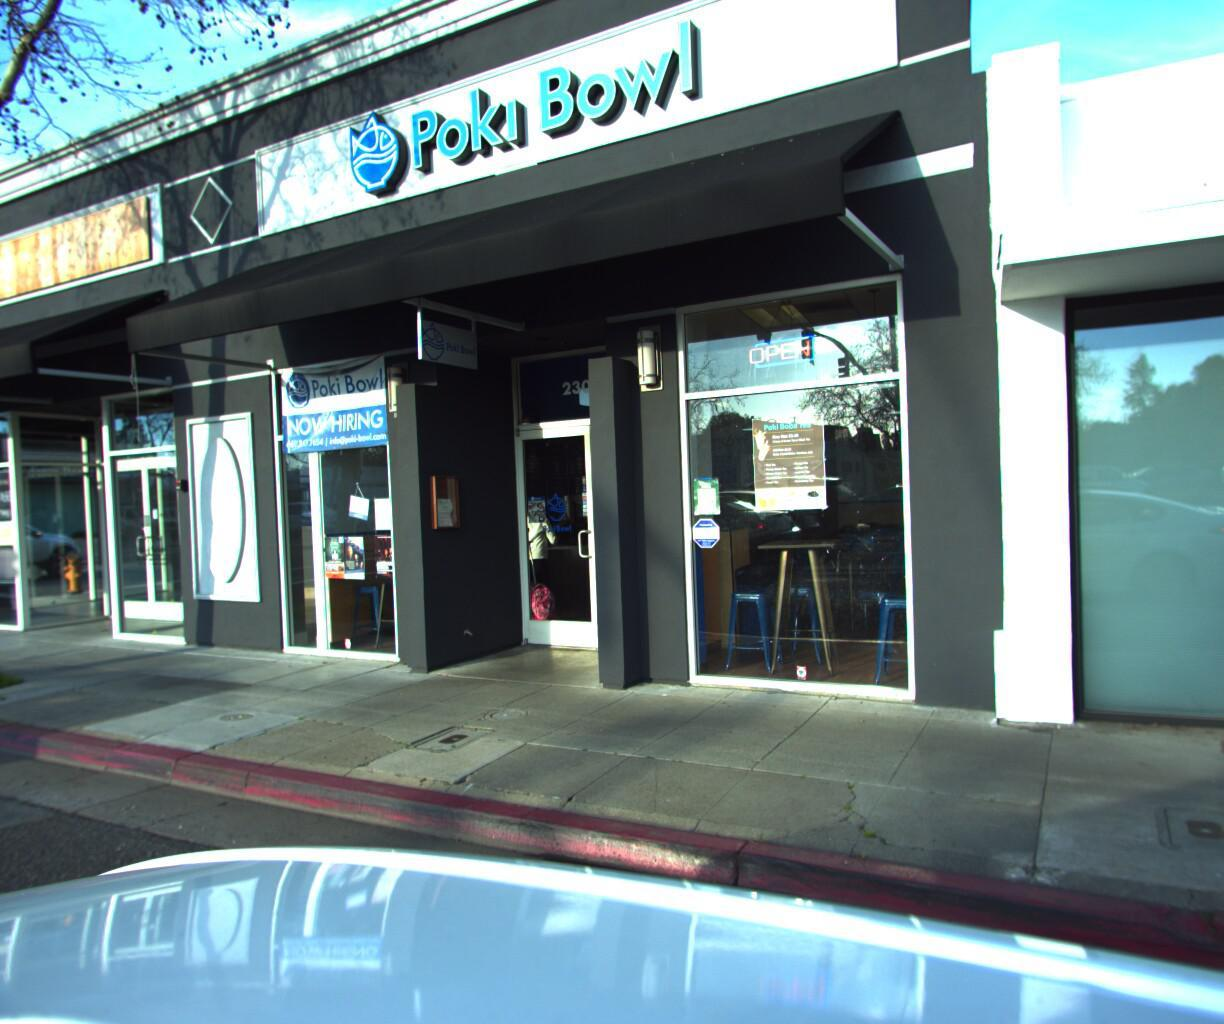car: (0, 506, 86, 588)
